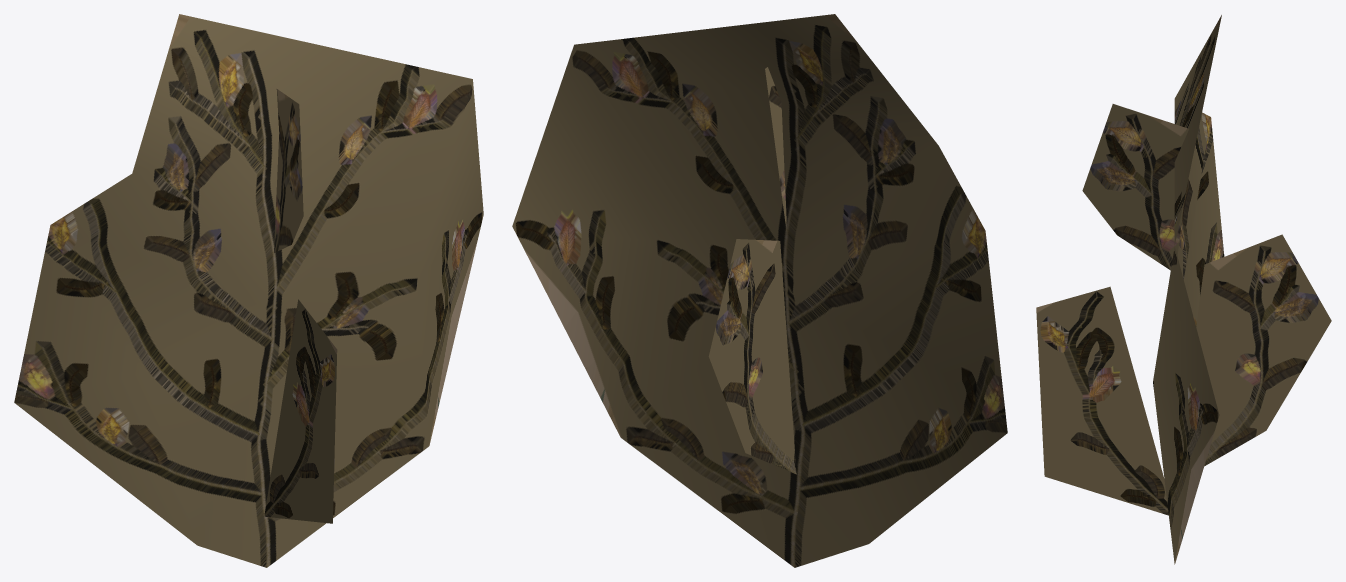
File: SM_Rapseed_01b.fbx
3 views of the same model, side by side, from view 1: azimuth 30°, elevation 25°; view 2: azimuth 150°, elevation 25°; view 3: azimuth 270°, elevation 25° (orthographic). The views are drawn at different scales.
Parts seen in each view (by area): view 1: SM_Rapseed_01b_LOD0; view 2: SM_Rapseed_01b_LOD0; view 3: SM_Rapseed_01b_LOD0.
Part boxes in pixels (x1,y1,x2,y2): SM_Rapseed_01b_LOD0: (14,14,483,567); SM_Rapseed_01b_LOD0: (512,14,1007,567); SM_Rapseed_01b_LOD0: (1036,15,1331,564).
Size of the model in its own units: 82.84 by 47.75 by 93.55.
